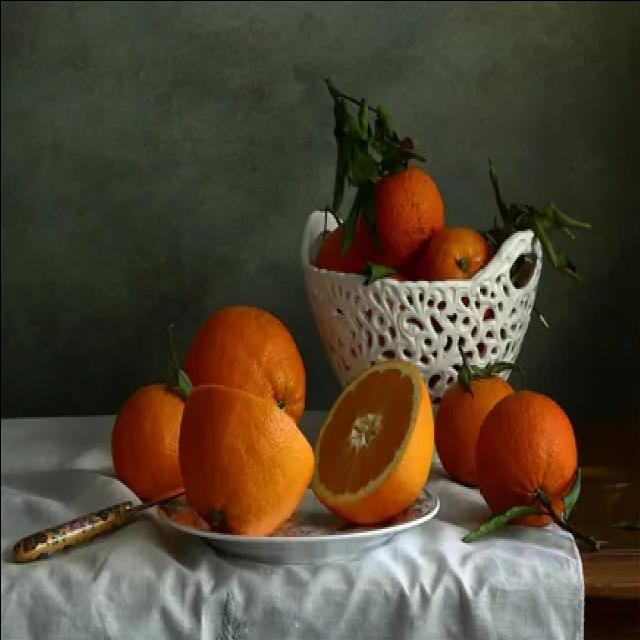orange: (467, 380, 587, 534)
